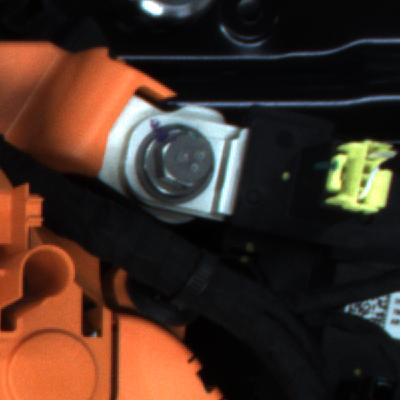nut_b: (134, 122, 223, 207)
